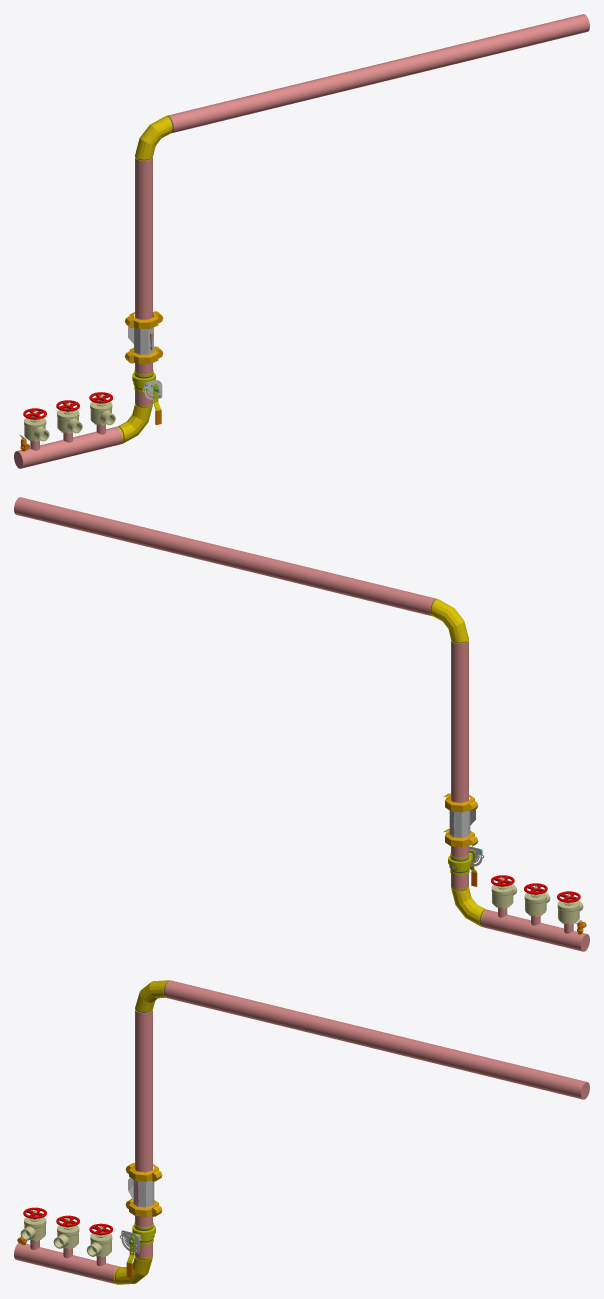
Rendered from banco_pruebas.glb.
3 views of the same model, one above another, from view 1: azimuth 30°, elevation 25°; view 2: azimuth 150°, elevation 25°; view 3: azimuth 330°, elevation 25° (orthographic).
Visible parts, largest first — view 1: n82_p0_255_92_92, n80_p0_255_92_92, n23_p0_255_92_92, n86_p0_255_191_0, n3_p0_255_127_0, n66_p0_255_191_0; view 2: n82_p0_255_92_92, n80_p0_255_92_92, n23_p0_255_92_92, n86_p0_255_191_0, n3_p0_255_127_0, n66_p0_255_191_0, n4_p0_192_192_192; view 3: n82_p0_255_92_92, n80_p0_255_92_92, n23_p0_255_92_92, n3_p0_255_127_0, n86_p0_255_191_0, n4_p0_192_192_192, n66_p0_255_191_0, n40_p0_204_204_102, n51_p0_204_204_102, n62_p0_204_204_102.
Boxes of the visible parts, box(x1,y1,x2,y2) form: n82_p0_255_92_92: box(169, 14, 589, 132); n80_p0_255_92_92: box(135, 158, 152, 405); n23_p0_255_92_92: box(14, 427, 122, 468); n86_p0_255_191_0: box(135, 116, 172, 159); n3_p0_255_127_0: box(124, 311, 163, 364); n66_p0_255_191_0: box(118, 404, 152, 443); n82_p0_255_92_92: box(14, 497, 435, 615); n80_p0_255_92_92: box(451, 641, 468, 888); n23_p0_255_92_92: box(481, 910, 589, 951); n86_p0_255_191_0: box(431, 599, 468, 642); n3_p0_255_127_0: box(443, 793, 478, 847); n66_p0_255_191_0: box(451, 887, 485, 926); n4_p0_192_192_192: box(449, 809, 475, 837); n82_p0_255_92_92: box(164, 980, 589, 1099); n80_p0_255_92_92: box(135, 1010, 152, 1258); n23_p0_255_92_92: box(14, 1243, 119, 1283); n3_p0_255_127_0: box(125, 1163, 162, 1216); n86_p0_255_191_0: box(135, 980, 169, 1011); n4_p0_192_192_192: box(128, 1178, 154, 1207); n66_p0_255_191_0: box(115, 1256, 152, 1284); n40_p0_204_204_102: box(20, 1215, 46, 1241); n51_p0_204_204_102: box(53, 1223, 79, 1249); n62_p0_204_204_102: box(87, 1232, 112, 1257).
Size of the model in its own units: 3.43 by 1.82 by 0.2363.
